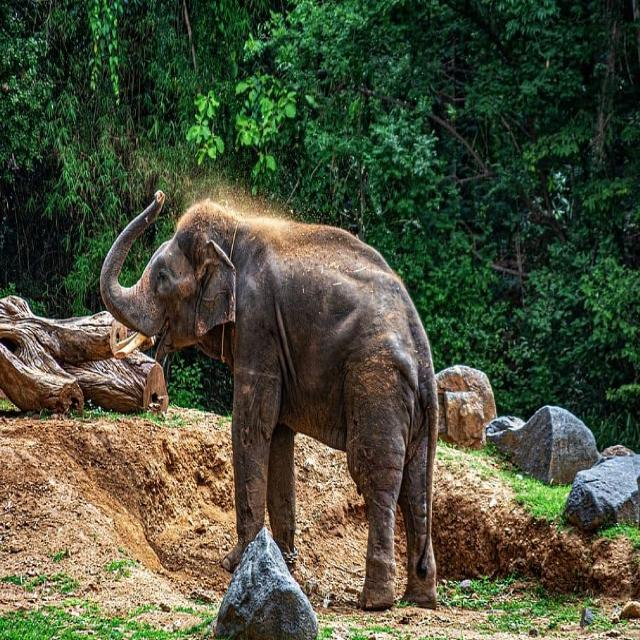Elephant: (99, 193, 438, 606)
